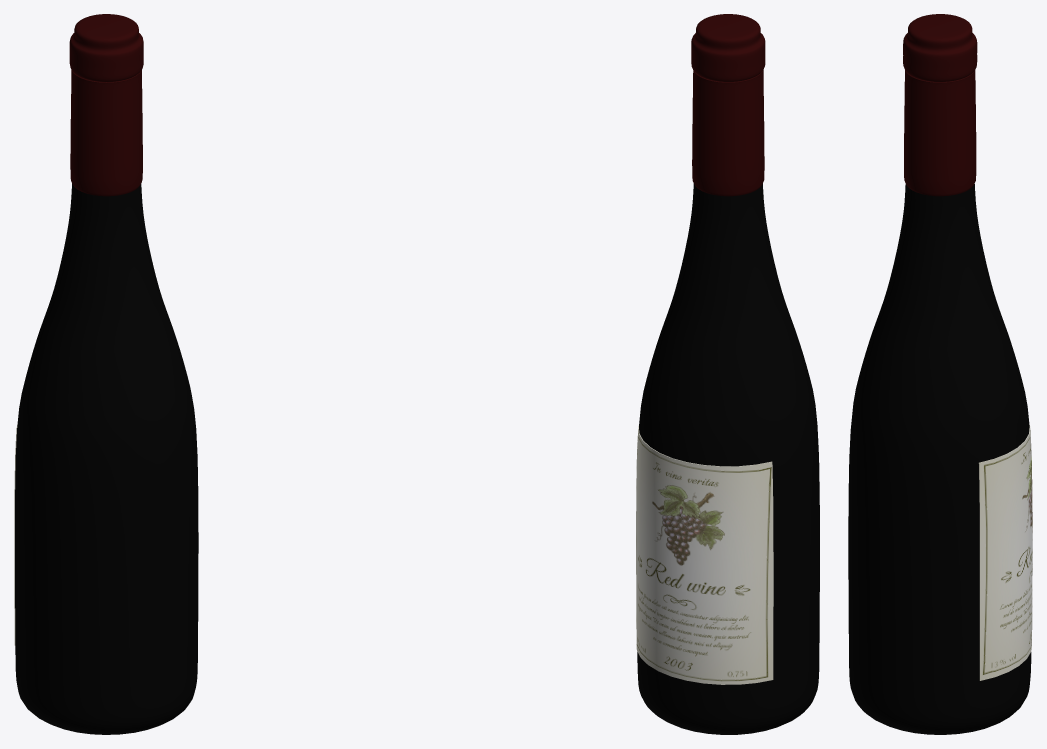
File: wine_bottle.glb
3 views of the same model, side by side, from view 1: azimuth 30°, elevation 25°; view 2: azimuth 150°, elevation 25°; view 3: azimuth 270°, elevation 25° (orthographic).
Parts seen in each view (by area): view 1: pasted__polySurface1, pasted__polySurface2; view 2: pasted__polySurface1, pasted__pasted__polySurface2, pasted__polySurface2; view 3: pasted__polySurface1, pasted__polySurface2, pasted__pasted__polySurface2.
Part boxes in pixels (x1=…): pasted__polySurface1: x1=15, y1=183, x2=198, y2=734; pasted__polySurface2: x1=69, y1=14, x2=143, y2=196; pasted__polySurface1: x1=637, y1=183, x2=819, y2=734; pasted__pasted__polySurface2: x1=636, y1=425, x2=773, y2=684; pasted__polySurface2: x1=691, y1=14, x2=765, y2=196; pasted__polySurface1: x1=848, y1=184, x2=1031, y2=734; pasted__polySurface2: x1=903, y1=14, x2=977, y2=196; pasted__pasted__polySurface2: x1=978, y1=424, x2=1032, y2=680.
Size of the model in its own units: 11.16 by 19.94 by 4.86.
Materials: 4 (4 with a texture image).
